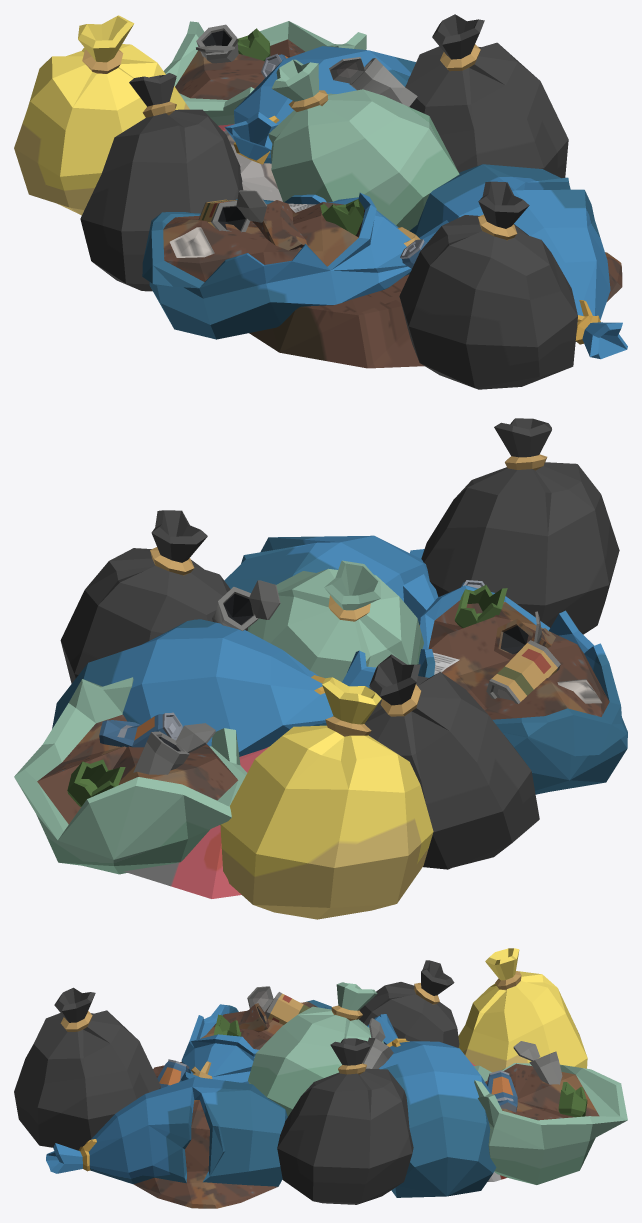
The model's file is TrashPile_1.fbx.
3 renders of one model, top to bottom at view 1: azimuth 30°, elevation 25°; view 2: azimuth 150°, elevation 25°; view 3: azimuth 270°, elevation 25°, orthographic. The views are drawn at different scales.
Parts seen in each view (by area): view 1: SM_Prop_TrashPile_02.001; view 2: SM_Prop_TrashPile_02.001; view 3: SM_Prop_TrashPile_02.001.
Boxes of the visible parts, bbox=[...] form: SM_Prop_TrashPile_02.001: bbox=[14, 14, 627, 389]; SM_Prop_TrashPile_02.001: bbox=[14, 418, 627, 919]; SM_Prop_TrashPile_02.001: bbox=[14, 948, 627, 1208].
Bounding box in the file's own units: 234 × 105 × 358.
Materials: 2 (2 with a texture image).
